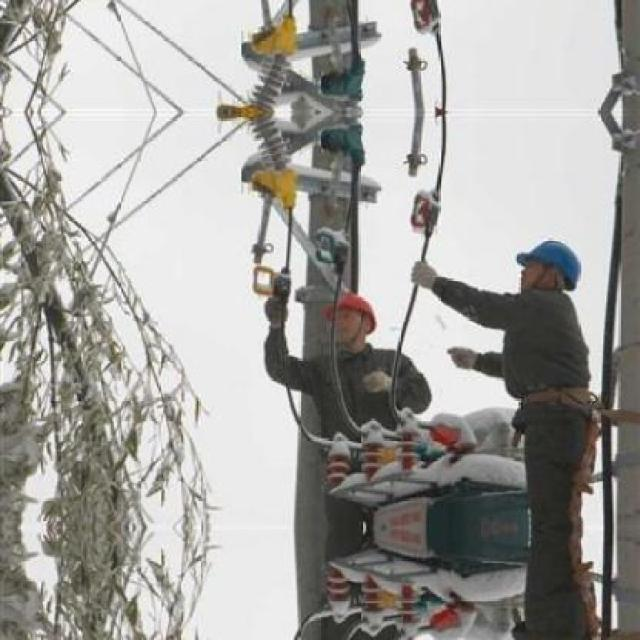helmet: (513, 228, 579, 294), (326, 288, 382, 346)
